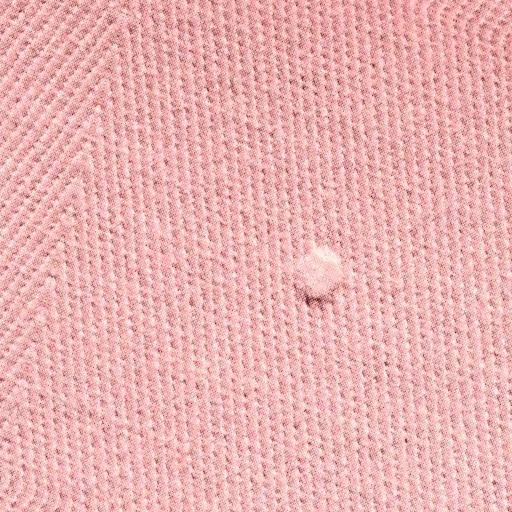knot: (285, 236, 358, 305)
